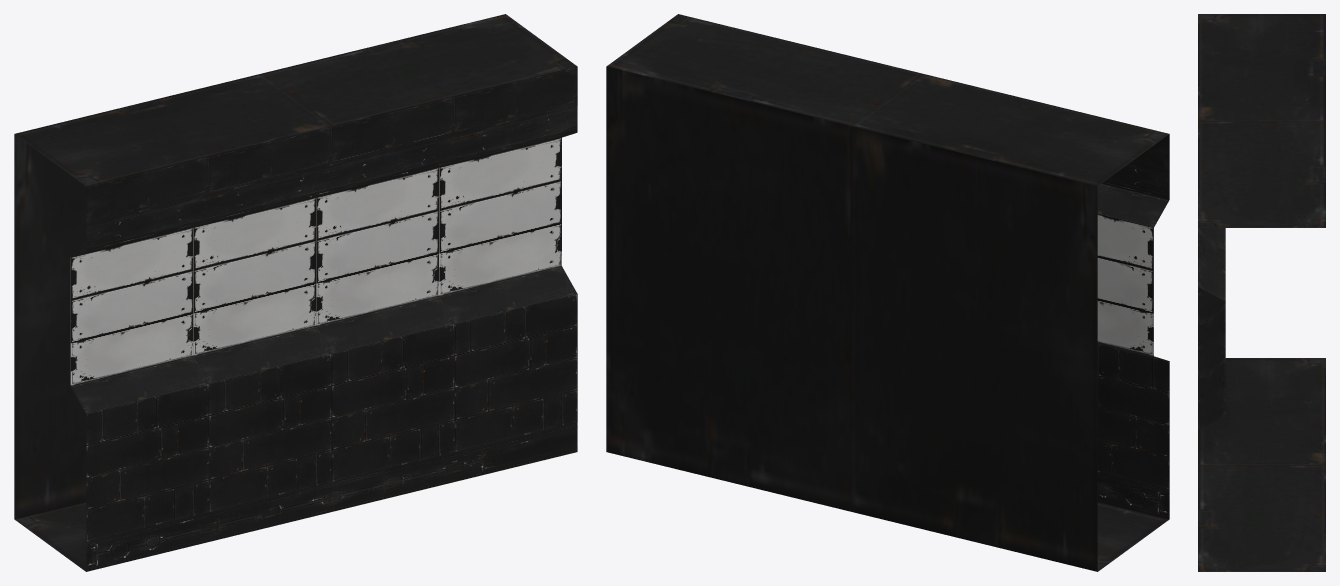
Rendered from ModularPH_Wall_4x3x1.dae.
3 renders of one model, left to right at view 1: azimuth 30°, elevation 25°; view 2: azimuth 150°, elevation 25°; view 3: azimuth 270°, elevation 25°, orthographic. The views are drawn at different scales.
Visible parts, largest first — view 1: modularPH_Wall; view 2: modularPH_Wall; view 3: modularPH_Wall.
Part boxes in pixels (x1,y1,x2,y2): modularPH_Wall: (14,14,577,571); modularPH_Wall: (606,14,1169,571); modularPH_Wall: (1198,14,1325,571).
Size of the model in its own units: 4 by 3 by 1.01.
1 material, 1 textured.
